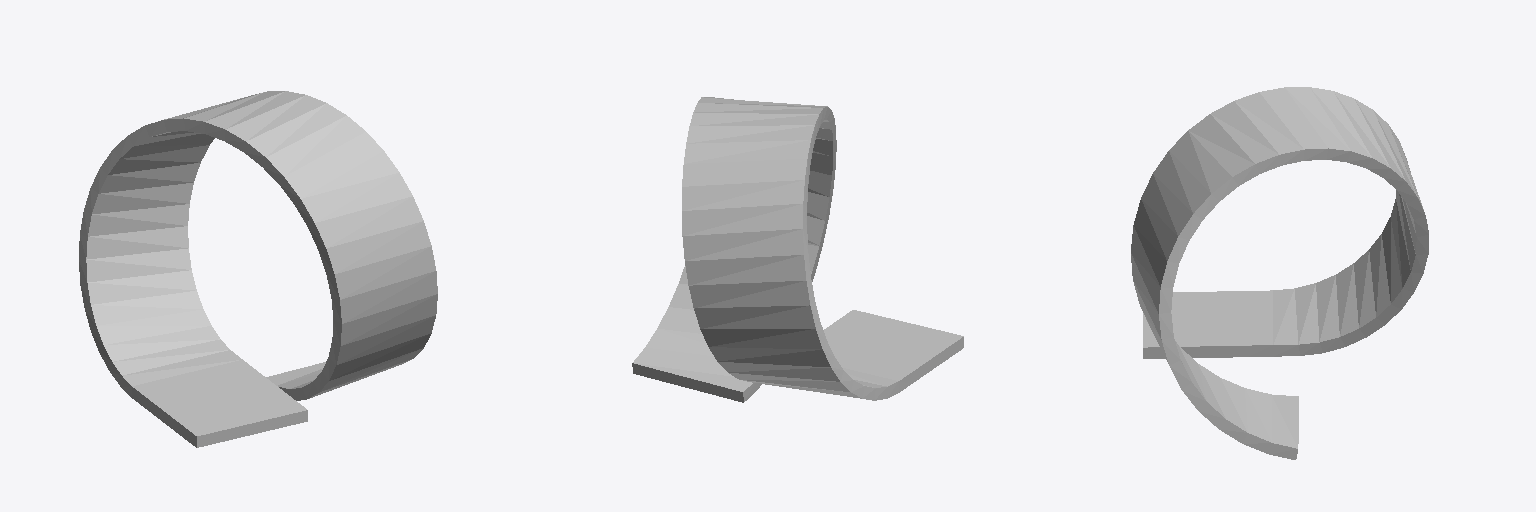
Rendered from basic_loop.obj.
The picture shows the model from 3 angles: view 1: azimuth 30°, elevation 25°; view 2: azimuth 150°, elevation 25°; view 3: azimuth 270°, elevation 25°; orthographic projection.
Visible parts, largest first — view 1: basic_loop_cannon_wood_bigcurve_glb.007; view 2: basic_loop_cannon_wood_bigcurve_glb.007; view 3: basic_loop_cannon_wood_bigcurve_glb.007.
Part boxes in pixels (x1,y1,x2,y2): basic_loop_cannon_wood_bigcurve_glb.007: (79, 91, 437, 447); basic_loop_cannon_wood_bigcurve_glb.007: (632, 97, 963, 402); basic_loop_cannon_wood_bigcurve_glb.007: (1131, 87, 1428, 459).
Bounding box in the file's own units: 4.87 × 5.27 × 4.93.